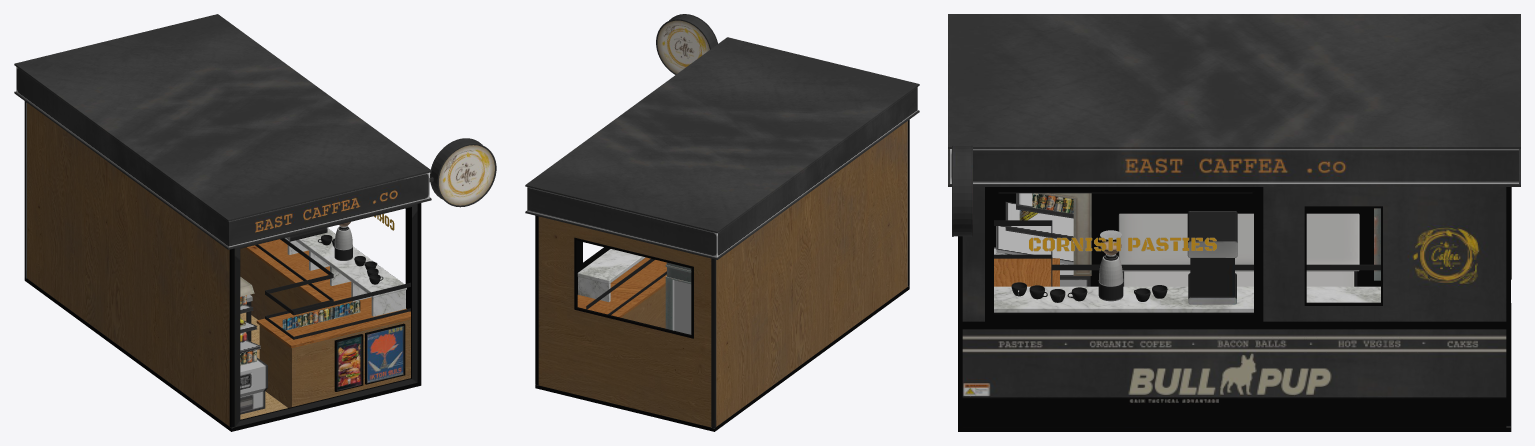
Rendered from Coffee Stand.fbx.
The picture shows the model from 3 angles, left to right: view 1: azimuth 30°, elevation 25°; view 2: azimuth 150°, elevation 25°; view 3: azimuth 270°, elevation 25°; orthographic projection. The views are drawn at different scales.
Visible parts, largest first — view 1: XI_NYS_Coffee_stand.Shape; view 2: XI_NYS_Coffee_stand.Shape; view 3: XI_NYS_Coffee_stand.Shape.
Part boxes in pixels (box(x1,y1,x2,y2)): XI_NYS_Coffee_stand.Shape: box(14, 14, 496, 431); XI_NYS_Coffee_stand.Shape: box(525, 14, 919, 431); XI_NYS_Coffee_stand.Shape: box(948, 14, 1520, 431).
Size of the model in its own units: 336 by 276 by 461.
5 materials, 5 textured.
